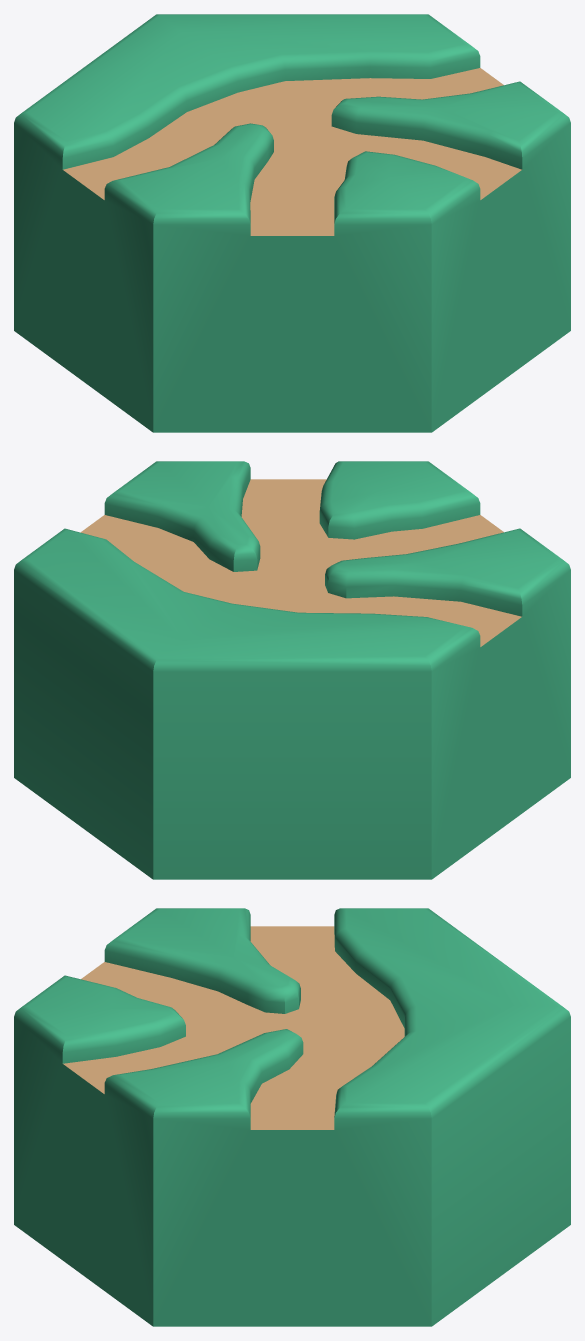
The model's file is hex_forest_roadK.glb.
3 views of the same model, one above another, from view 1: azimuth 30°, elevation 25°; view 2: azimuth 150°, elevation 25°; view 3: azimuth 270°, elevation 25° (orthographic).
Visible parts, largest first — view 1: hex_forest_roadK; view 2: hex_forest_roadK; view 3: hex_forest_roadK.
Part boxes in pixels (<box>): hex_forest_roadK: <box>14,14,570,432</box>; hex_forest_roadK: <box>14,461,570,879</box>; hex_forest_roadK: <box>14,908,570,1326</box>.
Size of the model in its own units: 2 by 1 by 2.31.
